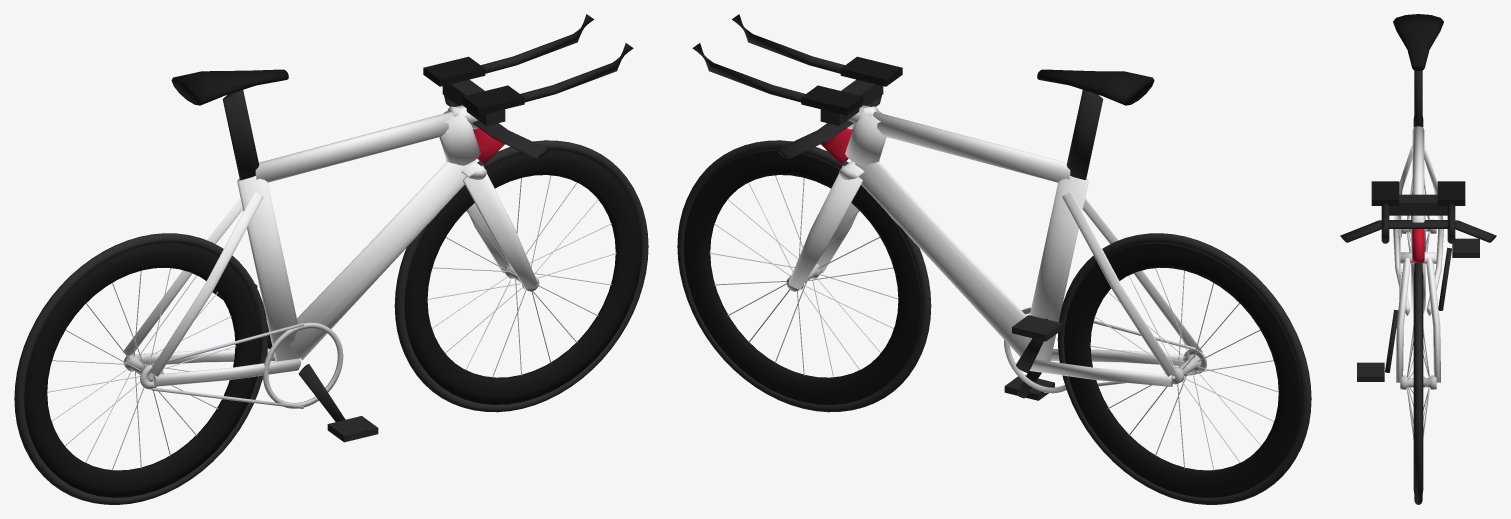
Rendered from bike.glb.
3 views of the same model, side by side, from view 1: azimuth 30°, elevation 25°; view 2: azimuth 150°, elevation 25°; view 3: azimuth 270°, elevation 25° (orthographic). The views are drawn at different scales.
Parts seen in each view (by area): view 1: wheel_front_rim, wheel_rear_rim, down_tube, wheel_rear_tyre, wheel_front_tyre, seat_tube, top_tube, fork_l, saddle, wheel_front_spokes, wheel_rear_spokes, seatstay_l (+15 smaller); view 2: wheel_rear_rim, wheel_front_rim, down_tube, wheel_rear_tyre, wheel_front_tyre, seat_tube, top_tube, fork_r, saddle, wheel_rear_spokes, wheel_front_spokes, seatstay_r (+13 smaller); view 3: wheel_front_tyre, saddle, base_bar, pad_riser, fork_l, fork_r, top_tube, wheel_front_rim, armpad_l, armpad_r, wheel_front_spokes, pedal_l (+15 smaller).
Boxes of the visible parts, x1,y1,x2,y2 form: wheel_front_rim: [404, 150, 642, 404]; wheel_rear_rim: [24, 243, 261, 497]; down_tube: [289, 161, 470, 360]; wheel_rear_tyre: [14, 233, 268, 504]; wheel_front_tyre: [394, 140, 648, 412]; seat_tube: [237, 176, 300, 361]; top_tube: [255, 112, 452, 182]; fork_l: [463, 165, 537, 289]; saddle: [171, 69, 288, 105]; wheel_front_spokes: [427, 175, 616, 377]; wheel_rear_spokes: [47, 268, 236, 470]; seatstay_l: [149, 191, 263, 376]; wheel_rear_rim: [1064, 243, 1301, 497]; wheel_front_rim: [683, 150, 921, 404]; down_tube: [855, 161, 1031, 356]; wheel_rear_tyre: [1057, 233, 1311, 504]; wheel_front_tyre: [677, 140, 931, 412]; seat_tube: [1030, 176, 1088, 361]; top_tube: [873, 112, 1070, 182]; fork_r: [788, 165, 862, 289]; saddle: [1037, 69, 1154, 105]; wheel_rear_spokes: [1089, 268, 1278, 470]; wheel_front_spokes: [709, 175, 898, 377]; seatstay_r: [1062, 191, 1176, 376]; wheel_front_tyre: [1414, 263, 1422, 504]; saddle: [1393, 14, 1443, 71]; base_bar: [1340, 220, 1496, 242]; pad_riser: [1389, 194, 1447, 215]; fork_l: [1396, 258, 1410, 382]; fork_r: [1426, 258, 1440, 382]; top_tube: [1412, 126, 1424, 194]; wheel_front_rim: [1413, 272, 1423, 493]; armpad_l: [1371, 181, 1399, 205]; armpad_r: [1437, 181, 1465, 205]; wheel_front_spokes: [1407, 326, 1429, 439]; pedal_l: [1357, 362, 1384, 381].
Bounding box in the file's own units: 1.67 × 1.03 × 0.4281.
